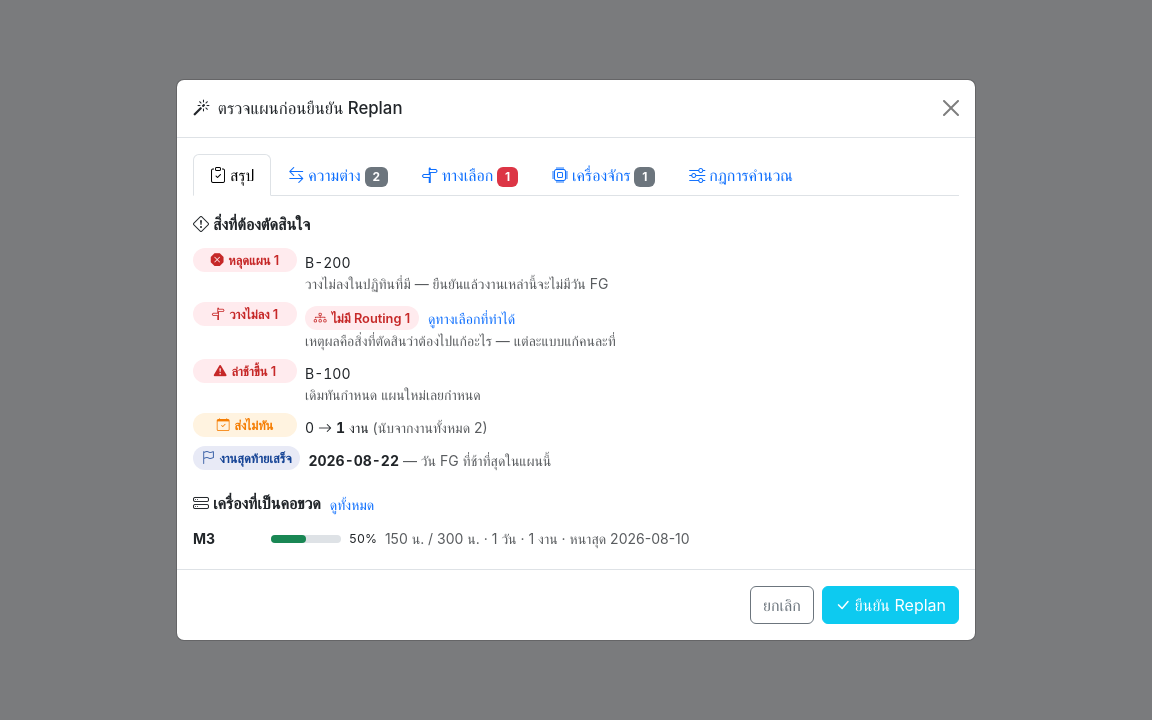
Test: เหตุผลที่วางไม่ลง ต้องไม่ผูกกับจำนวน fell-out › missing-routing มีเหตุผลของตัวเองพร้อมทางแก้
Expected: the text "ไม่มี Routing 1" is shown, [305, 306, 419, 330]
Click the tab "ทางเลือก 1".
click(470, 175)  # box [405, 154, 535, 196]
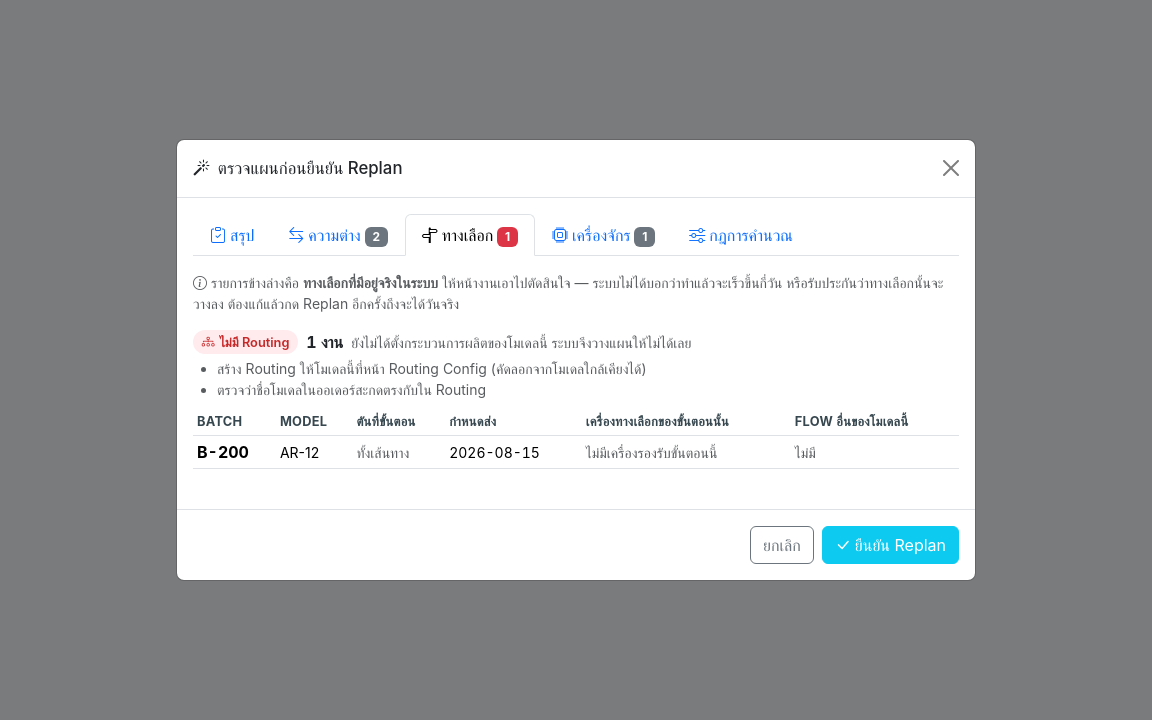
Expected: the list item "สร้าง Routing ให้โมเดลนี้" is shown, [217, 360, 647, 377]
Expected: the text "ทั้งเส้นทาง" is shown, [356, 444, 409, 461]
